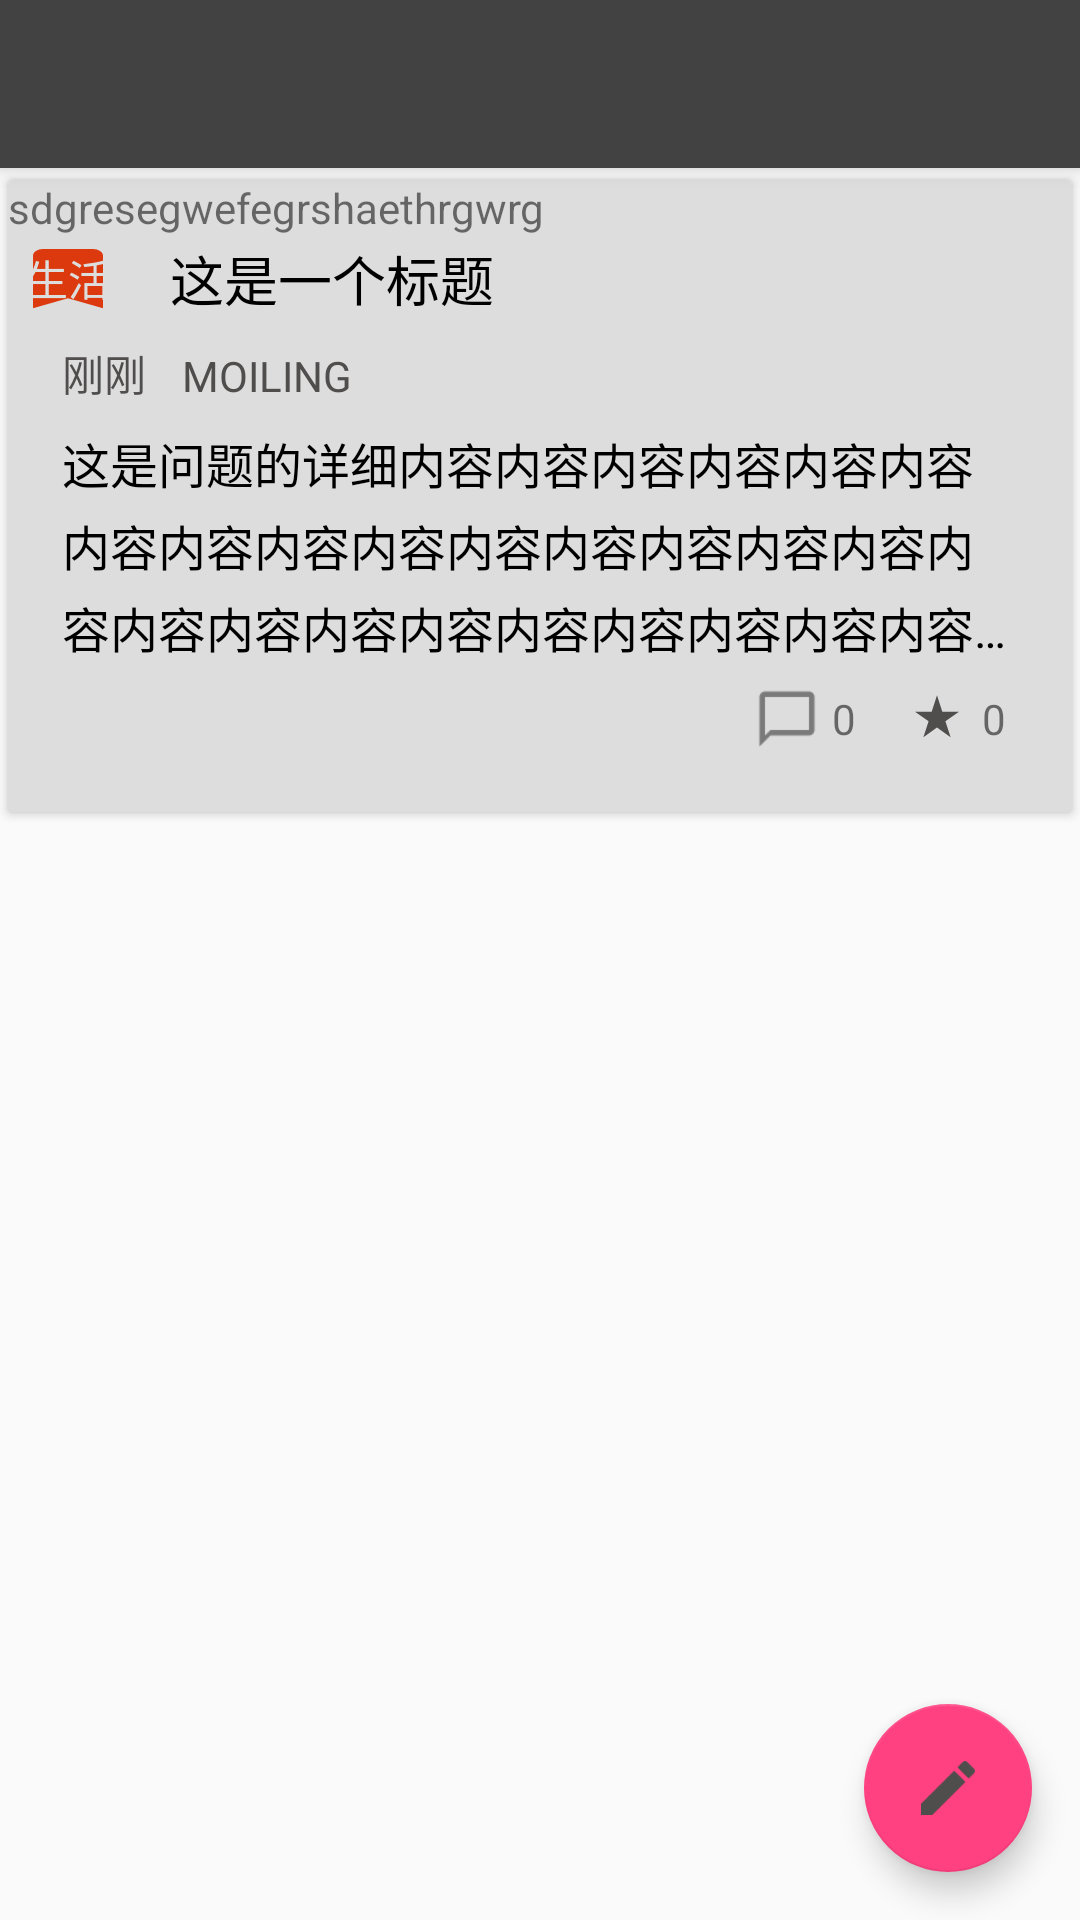

Screen size 1080×1920. Icon name, then its box in pixels as (x1, y1, x2, y2):
chat bubble: (759, 691, 815, 746)
create: (864, 1704, 1032, 1872)
star rate: (915, 696, 959, 737)
